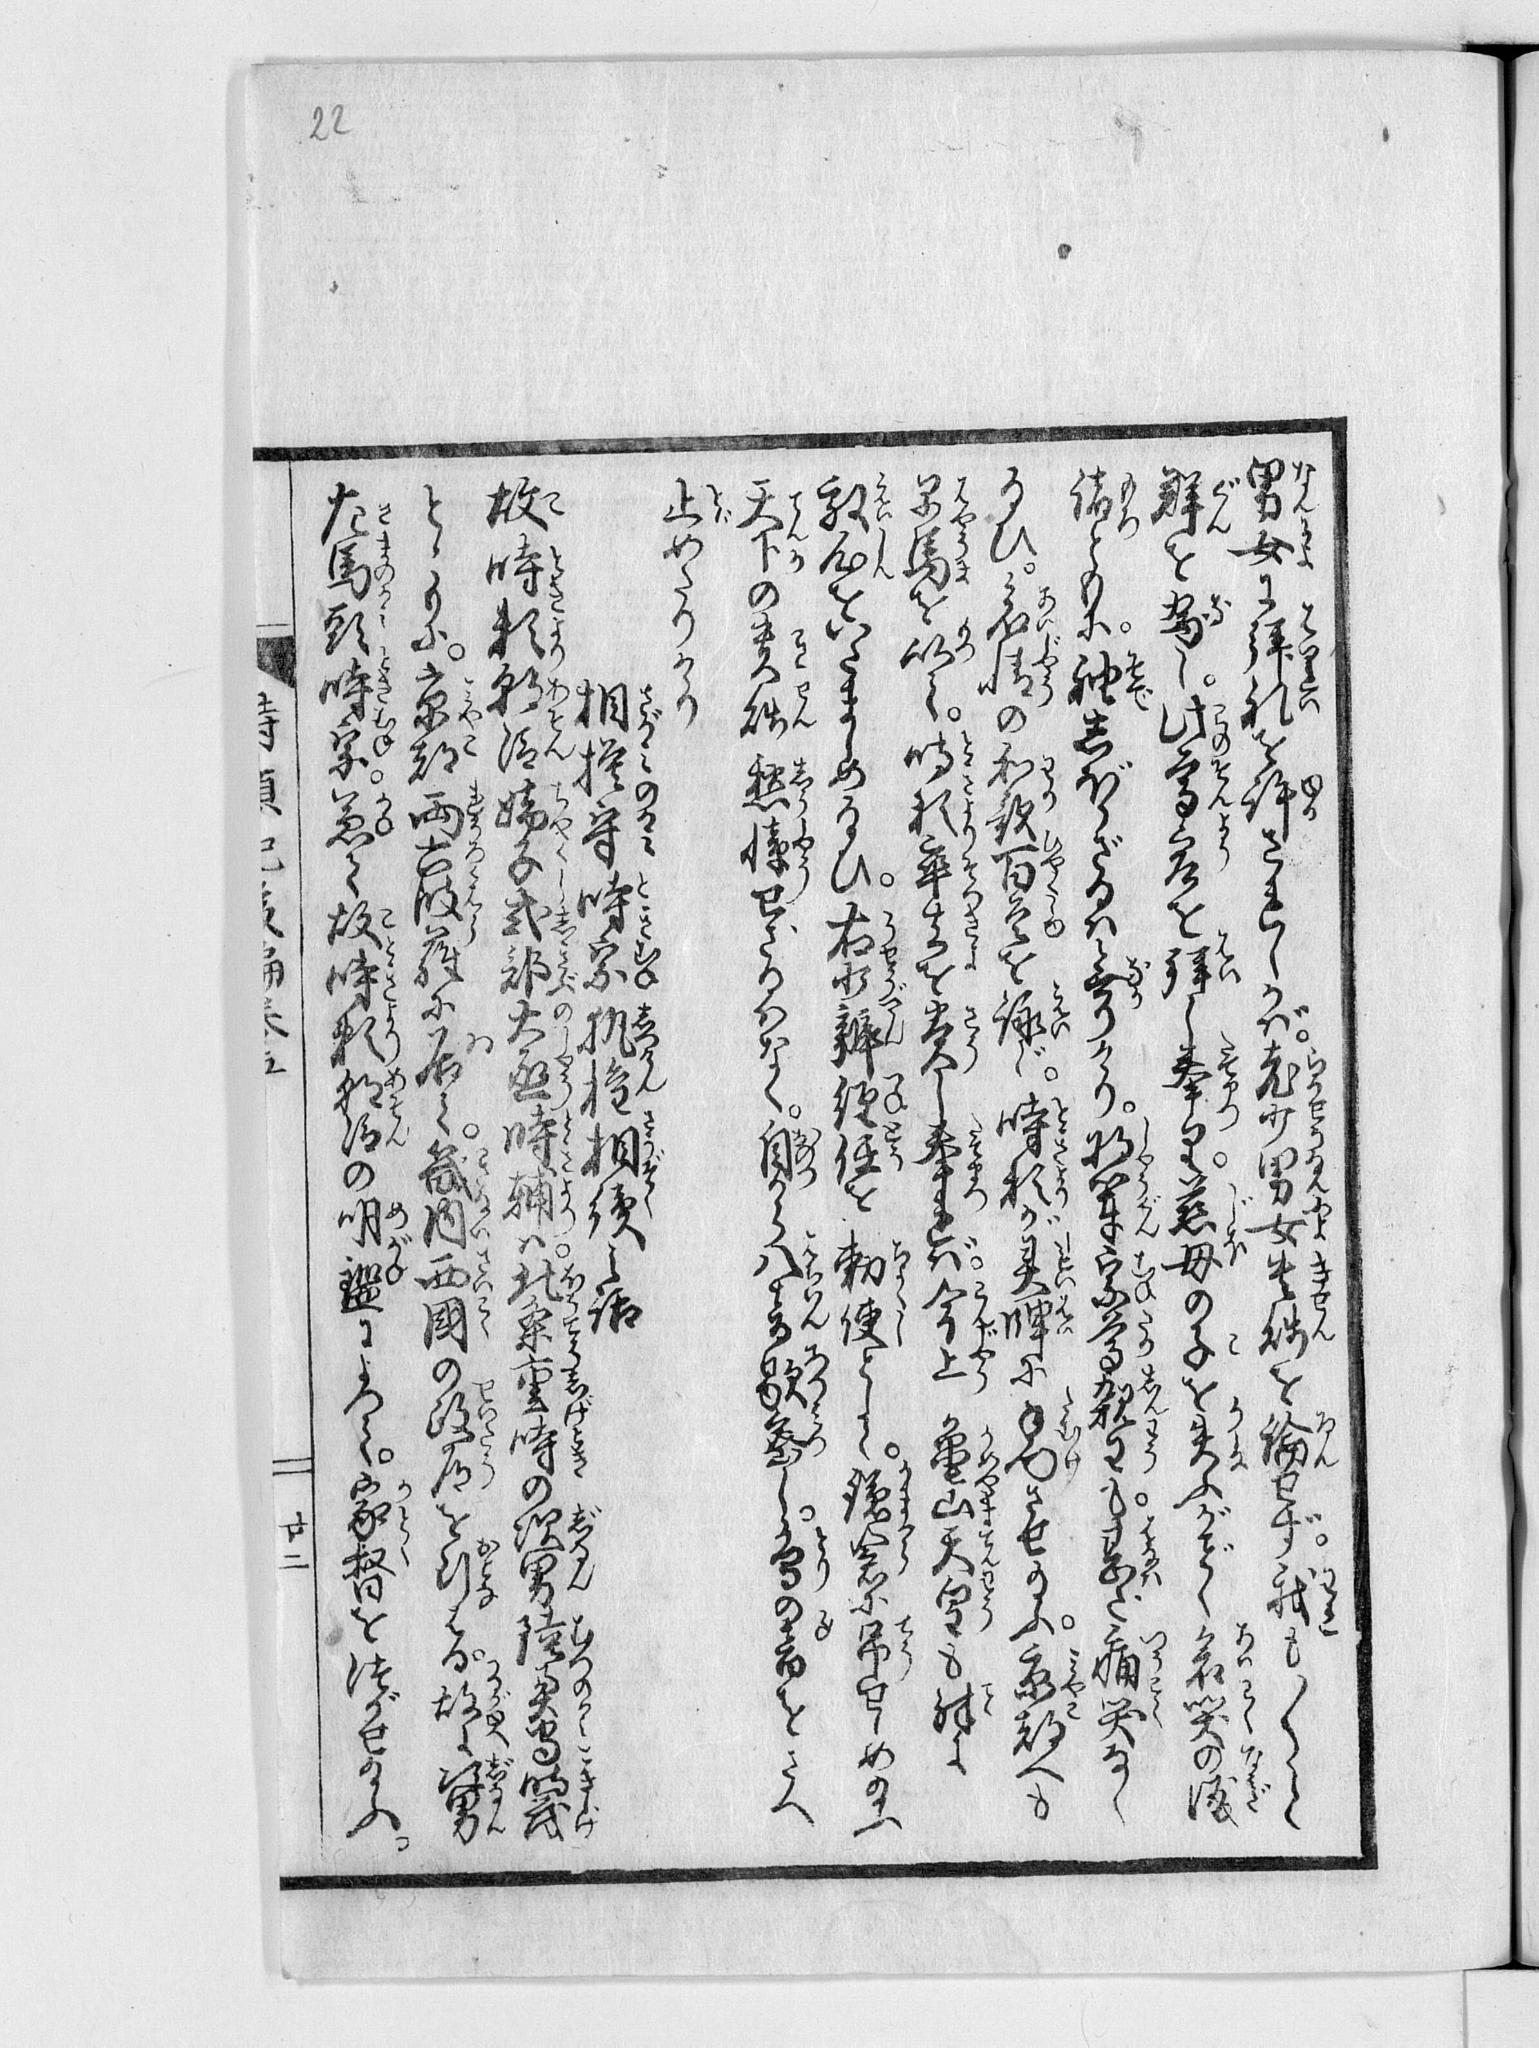MainZone-Character: (1086, 1367, 1175, 1473), (1157, 1030, 1245, 1133), (425, 1647, 511, 1749), (1187, 1744, 1279, 1833), (320, 1237, 414, 1319), (576, 1110, 669, 1191), (920, 1109, 989, 1211), (1062, 456, 1141, 545), (1082, 1114, 1162, 1199), (1145, 467, 1240, 538), (576, 1180, 673, 1249), (516, 1770, 609, 1841), (921, 1411, 1001, 1490), (993, 1091, 1078, 1164), (1254, 1408, 1348, 1474), (1090, 1620, 1170, 1696), (315, 651, 399, 724), (516, 1602, 603, 1671), (753, 1337, 831, 1414), (479, 605, 574, 668), (1178, 1397, 1251, 1479), (1064, 648, 1157, 711), (1153, 810, 1230, 886), (1245, 601, 1327, 672), (981, 635, 1065, 705), (737, 816, 821, 886), (734, 748, 820, 816), (485, 543, 571, 611), (1146, 587, 1235, 651), (1086, 1241, 1167, 1313), (1090, 1676, 1170, 1747), (988, 981, 1077, 1046), (1149, 928, 1240, 991), (1237, 454, 1324, 519), (432, 1537, 504, 1615), (409, 920, 487, 992), (341, 1536, 419, 1607), (1230, 517, 1322, 577), (915, 892, 985, 971), (921, 1275, 1001, 1345), (325, 1001, 404, 1070), (824, 994, 907, 1060), (892, 524, 976, 588), (1267, 1563, 1342, 1636), (750, 1122, 823, 1196), (913, 997, 985, 1073), (409, 1025, 495, 1088), (310, 478, 398, 540), (341, 1473, 425, 1536), (834, 1227, 910, 1296), (1235, 672, 1326, 731), (1240, 771, 1330, 829), (317, 543, 403, 605), (737, 470, 810, 541), (849, 1616, 918, 1691), (584, 1060, 669, 1120), (584, 742, 664, 805), (1175, 1681, 1258, 1742), (508, 1422, 600, 1477), (905, 773, 980, 841), (991, 831, 1067, 897), (483, 474, 567, 533), (1077, 941, 1154, 1005), (577, 679, 663, 737), (1170, 1175, 1251, 1237), (491, 777, 574, 837), (415, 1141, 498, 1201), (327, 774, 393, 849), (487, 719, 579, 773), (986, 571, 1062, 635), (1156, 752, 1233, 815), (1009, 1641, 1086, 1704), (828, 1120, 907, 1182), (430, 1379, 501, 1447), (926, 1573, 999, 1639), (737, 614, 810, 681), (512, 1364, 597, 1421), (1010, 1385, 1090, 1445), (1188, 1620, 1258, 1688), (503, 1109, 572, 1177), (512, 1502, 606, 1552), (907, 462, 981, 525), (396, 784, 487, 836), (498, 887, 580, 944), (579, 874, 656, 934), (997, 1233, 1082, 1288), (580, 1001, 664, 1056), (773, 1612, 842, 1678), (813, 470, 902, 522), (582, 808, 663, 865), (330, 1195, 411, 1251), (503, 999, 577, 1060), (406, 664, 480, 726), (328, 899, 404, 959), (403, 729, 485, 784), (999, 1292, 1077, 1350), (734, 677, 813, 734), (582, 938, 661, 994), (760, 1411, 834, 1471), (1154, 698, 1235, 753), (828, 904, 905, 960), (773, 1528, 837, 1595), (1162, 1238, 1250, 1288), (660, 472, 732, 532), (823, 530, 897, 588), (824, 1072, 907, 1123), (847, 1461, 913, 1524), (425, 1443, 501, 1498), (487, 669, 572, 718), (503, 1259, 588, 1308), (1088, 1313, 1159, 1371), (517, 1552, 600, 1602), (1251, 1044, 1330, 1096), (991, 1162, 1078, 1209), (836, 1300, 910, 1355), (1254, 1248, 1330, 1301), (1253, 1098, 1334, 1148), (896, 617, 976, 668), (996, 889, 1065, 947), (926, 1681, 997, 1738), (514, 1676, 603, 1721), (1256, 1306, 1342, 1353), (1254, 1149, 1332, 1201), (320, 729, 398, 781), (985, 740, 1064, 790), (900, 727, 980, 777), (1010, 1702, 1085, 1755), (503, 1180, 572, 1237), (432, 1755, 512, 1804), (406, 879, 487, 928), (753, 1237, 824, 1292), (417, 1295, 490, 1348), (517, 1720, 600, 1767), (921, 1528, 1006, 1573), (496, 950, 580, 996), (506, 1309, 584, 1358), (1088, 1195, 1164, 1243), (1009, 1443, 1090, 1489), (327, 1073, 407, 1119), (325, 959, 403, 1005), (414, 1249, 500, 1292), (760, 1288, 829, 1340), (425, 1203, 496, 1253), (910, 839, 983, 887), (845, 1529, 913, 1581), (1251, 1199, 1330, 1243), (985, 789, 1064, 831), (920, 1350, 999, 1392), (501, 844, 580, 886), (318, 608, 393, 651), (331, 1120, 411, 1161), (407, 837, 488, 876), (508, 1062, 579, 1102), (920, 1492, 999, 1528), (1182, 1327, 1245, 1371), (441, 1809, 511, 1848), (829, 962, 909, 996), (752, 538, 810, 574)
MainZone-Ruby: (482, 1658, 511, 1746), (1216, 1033, 1240, 1130), (963, 1114, 988, 1209), (1125, 1246, 1161, 1311), (1206, 469, 1238, 535), (1141, 1366, 1162, 1466), (1238, 1751, 1271, 1814), (372, 647, 396, 731), (475, 1536, 503, 1608), (370, 529, 398, 598), (1031, 637, 1060, 702), (576, 1772, 605, 1836), (469, 1140, 498, 1204), (1135, 1115, 1159, 1191), (1112, 474, 1138, 541), (876, 994, 907, 1051), (1125, 647, 1153, 710), (968, 1275, 994, 1340), (1224, 1401, 1246, 1474), (791, 1125, 818, 1185), (563, 1367, 593, 1421), (957, 1004, 981, 1070), (1122, 949, 1149, 1007), (475, 1376, 500, 1440), (634, 999, 661, 1056), (567, 1503, 603, 1547), (1208, 813, 1230, 881), (1222, 1182, 1250, 1237), (632, 748, 660, 803), (1292, 454, 1318, 512), (546, 781, 572, 839), (1288, 524, 1319, 572), (962, 895, 981, 971), (1057, 1387, 1085, 1440), (634, 682, 661, 735), (1313, 1413, 1339, 1469), (1049, 1230, 1075, 1287), (642, 1114, 664, 1178), (791, 823, 815, 883), (803, 1346, 828, 1406), (1298, 603, 1321, 666), (1318, 1568, 1339, 1636), (569, 1612, 595, 1667), (634, 938, 661, 989), (385, 1233, 412, 1285), (545, 543, 566, 609), (483, 1751, 514, 1796), (1141, 1628, 1164, 1688), (1041, 832, 1064, 892), (791, 753, 813, 813), (781, 485, 807, 537), (876, 913, 904, 962), (892, 1463, 915, 1521), (705, 475, 731, 525), (1059, 1642, 1083, 1696), (551, 949, 579, 996), (1049, 981, 1072, 1038), (894, 1616, 915, 1676), (1135, 1191, 1161, 1240), (976, 1424, 996, 1489), (390, 1479, 414, 1531), (888, 1238, 910, 1293), (635, 873, 655, 936), (469, 1204, 498, 1246), (462, 786, 487, 836), (1301, 1046, 1327, 1093), (1030, 584, 1056, 630), (637, 1062, 668, 1101), (551, 1001, 572, 1057), (871, 472, 896, 520), (949, 474, 975, 519), (976, 1571, 996, 1631), (810, 1531, 829, 1591), (383, 1009, 403, 1068), (553, 886, 574, 941), (378, 900, 399, 955), (870, 537, 894, 584), (637, 811, 661, 858), (1216, 933, 1238, 983), (1041, 897, 1067, 941), (1209, 756, 1230, 810), (1049, 1093, 1067, 1156), (881, 1120, 902, 1174), (567, 1422, 588, 1476), (370, 789, 391, 842), (878, 960, 910, 994), (564, 1557, 597, 1591), (542, 729, 574, 763), (553, 1064, 577, 1109), (558, 1109, 574, 1177), (799, 1295, 829, 1330), (470, 1296, 496, 1338), (878, 1075, 905, 1114), (800, 1418, 828, 1456), (474, 1253, 501, 1292), (954, 524, 972, 584), (1300, 774, 1322, 821), (559, 1259, 584, 1303), (474, 1443, 498, 1487), (1306, 1249, 1327, 1300), (892, 1528, 913, 1578), (1206, 587, 1232, 627), (466, 1030, 500, 1060), (1230, 1621, 1253, 1667), (385, 1072, 407, 1117), (967, 1350, 993, 1389), (1306, 1101, 1327, 1148), (1135, 1311, 1156, 1358), (791, 682, 812, 729), (1211, 700, 1230, 750), (459, 672, 479, 723), (976, 1532, 1002, 1570), (959, 841, 980, 886), (545, 614, 564, 663), (561, 1311, 582, 1355), (546, 676, 567, 719), (891, 1303, 910, 1350), (1306, 1201, 1330, 1238), (1237, 1681, 1254, 1731), (800, 1238, 821, 1280), (464, 871, 485, 913), (380, 963, 401, 1005), (1059, 1445, 1085, 1479), (1054, 1292, 1073, 1337), (952, 621, 975, 659), (791, 622, 810, 668), (572, 1678, 595, 1717), (1297, 676, 1321, 711), (959, 779, 975, 831), (559, 1183, 576, 1235), (483, 1804, 508, 1838), (1308, 1154, 1327, 1195), (1052, 1164, 1072, 1204), (545, 490, 569, 522), (576, 1726, 597, 1764), (639, 1183, 660, 1220), (553, 844, 571, 887), (1313, 1309, 1335, 1343), (457, 729, 482, 760), (373, 491, 393, 529), (383, 1119, 404, 1153), (957, 731, 975, 768), (464, 920, 483, 954), (462, 842, 487, 868), (813, 1615, 836, 1642), (1221, 1332, 1242, 1361), (1145, 1692, 1162, 1726), (1038, 752, 1056, 786), (396, 1539, 414, 1571), (1225, 1238, 1245, 1267), (980, 1683, 994, 1721), (978, 1495, 996, 1524), (373, 734, 394, 758), (385, 1199, 404, 1225), (1064, 1702, 1083, 1725), (372, 609, 391, 632), (791, 545, 807, 571), (1041, 794, 1057, 816)
